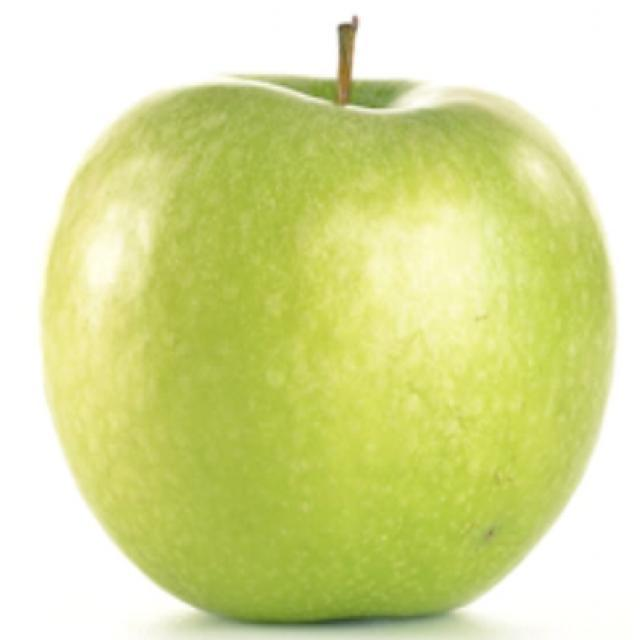Fresh Apple: (53, 68, 602, 622)
